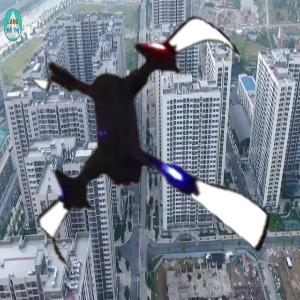drone: (4, 2, 300, 299)
